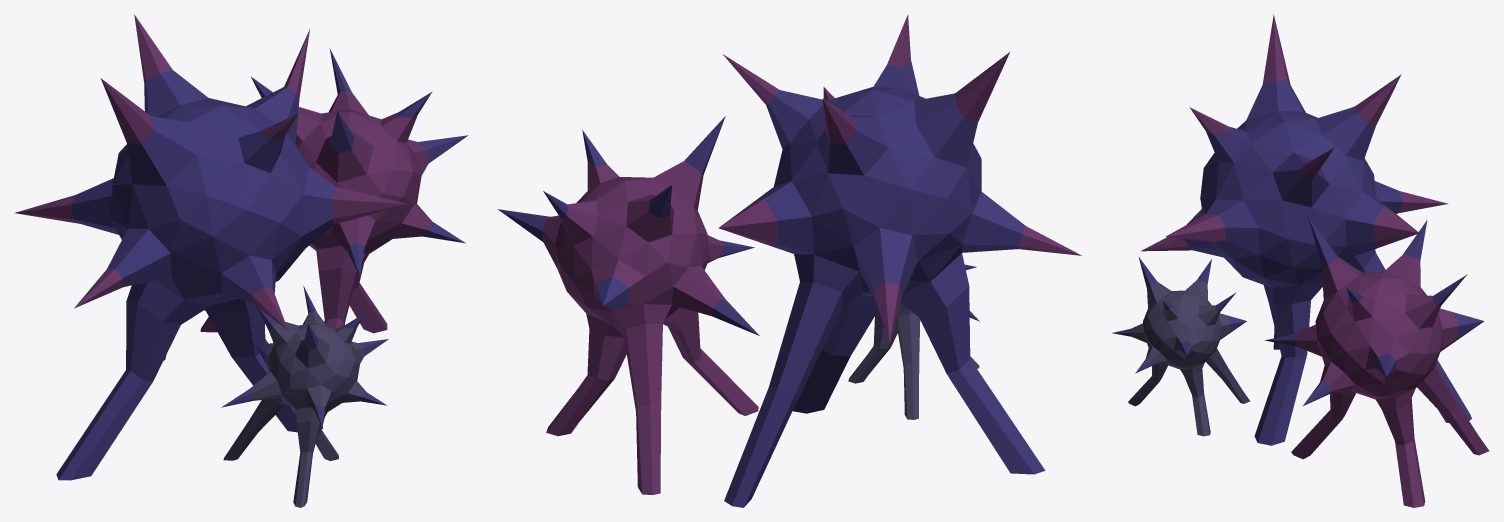
File: VL_Plant08.fbx
3 renders of one model, left to right at view 1: azimuth 30°, elevation 25°; view 2: azimuth 150°, elevation 25°; view 3: azimuth 270°, elevation 25°, orthographic. The views are drawn at different scales.
Visible parts, largest first — view 1: VL_Plant08; view 2: VL_Plant08; view 3: VL_Plant08.
Boxes of the visible parts, left/top/right/bottom form: VL_Plant08: left=14, top=14, right=468, bottom=507; VL_Plant08: left=497, top=15, right=1081, bottom=507; VL_Plant08: left=1112, top=14, right=1489, bottom=507.
Bounding box in the file's own units: 83.79 × 65.7 × 66.3.
1 material, 1 textured.
